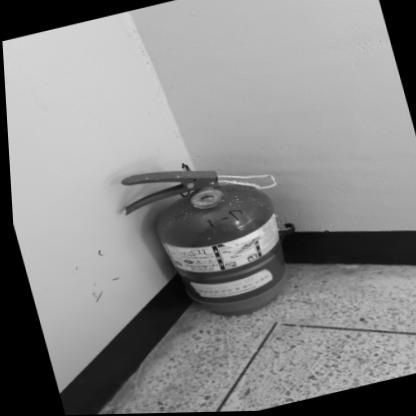FE: (111, 146, 294, 335)
